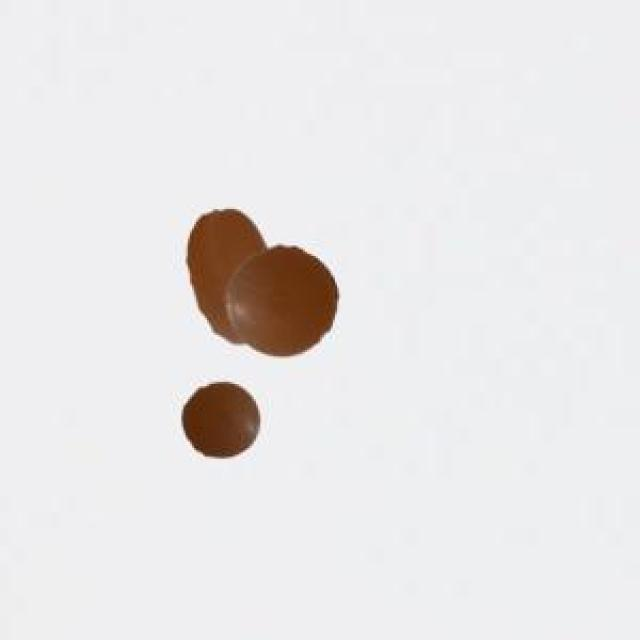Bactidol: (161, 195, 351, 364), (170, 376, 268, 466)
